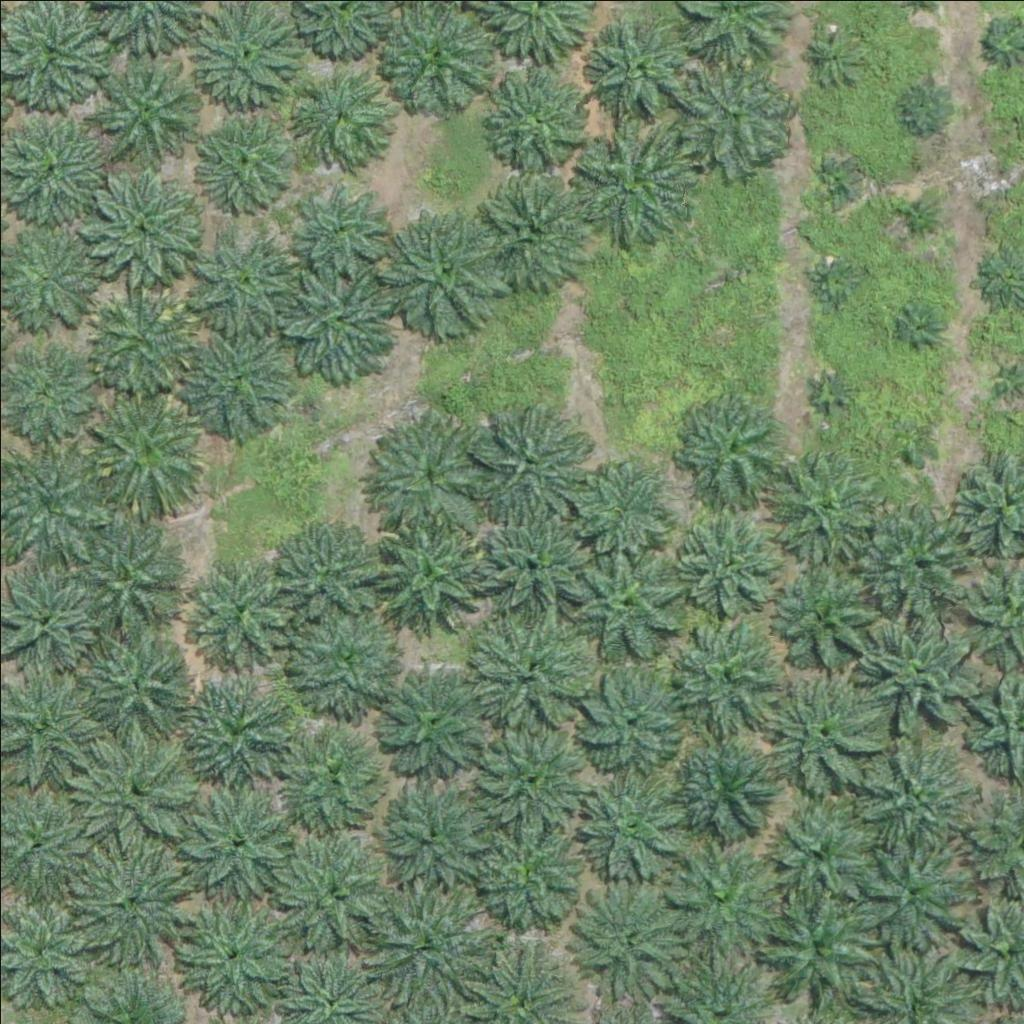Kelapa_Sawit: (848, 830, 973, 956), (850, 736, 975, 862), (855, 601, 980, 727), (855, 486, 980, 612), (758, 891, 883, 1017), (754, 792, 879, 918), (758, 671, 883, 797), (768, 558, 893, 684), (666, 836, 791, 962), (572, 754, 697, 880), (569, 877, 694, 1003), (567, 534, 692, 660), (462, 714, 587, 840), (463, 606, 588, 732), (467, 398, 592, 524), (281, 824, 406, 950), (368, 513, 493, 639), (364, 409, 489, 535), (71, 839, 196, 965), (75, 724, 200, 850), (277, 255, 402, 381), (383, 202, 508, 328), (566, 117, 691, 243), (462, 809, 587, 934), (276, 714, 401, 839), (287, 596, 412, 721), (84, 381, 209, 506), (678, 509, 791, 623), (666, 616, 779, 730), (565, 447, 678, 561), (476, 175, 589, 289), (674, 391, 787, 504), (663, 729, 776, 842), (379, 663, 492, 776), (378, 777, 491, 890), (365, 892, 478, 1005), (273, 518, 386, 631), (82, 174, 195, 287), (85, 47, 198, 160), (768, 443, 880, 556), (574, 659, 686, 772), (482, 503, 594, 616), (183, 555, 295, 668), (176, 680, 288, 793), (184, 783, 296, 896), (179, 893, 291, 1006), (79, 623, 191, 736), (72, 525, 184, 638), (678, 57, 790, 170), (91, 291, 191, 392), (181, 329, 281, 430), (193, 231, 293, 332), (197, 110, 297, 211), (291, 178, 391, 279), (588, 19, 688, 120), (293, 64, 393, 164), (489, 71, 589, 171), (894, 75, 957, 138), (808, 30, 858, 81), (892, 195, 942, 246), (894, 305, 944, 355), (808, 158, 858, 208), (805, 368, 855, 418), (809, 257, 859, 307), (886, 422, 936, 472), (987, 167, 1012, 192)
